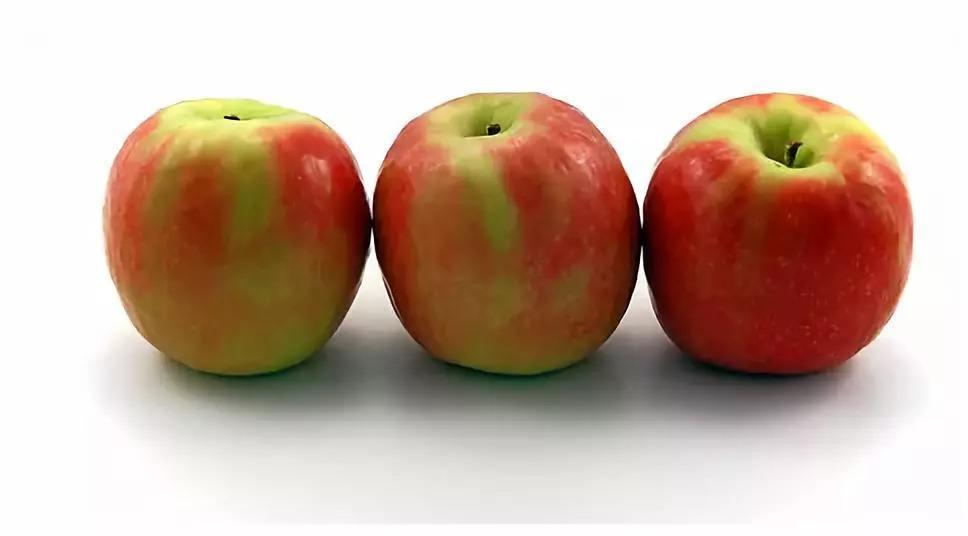apple: (641, 82, 910, 372), (368, 86, 638, 374), (95, 91, 367, 374)
